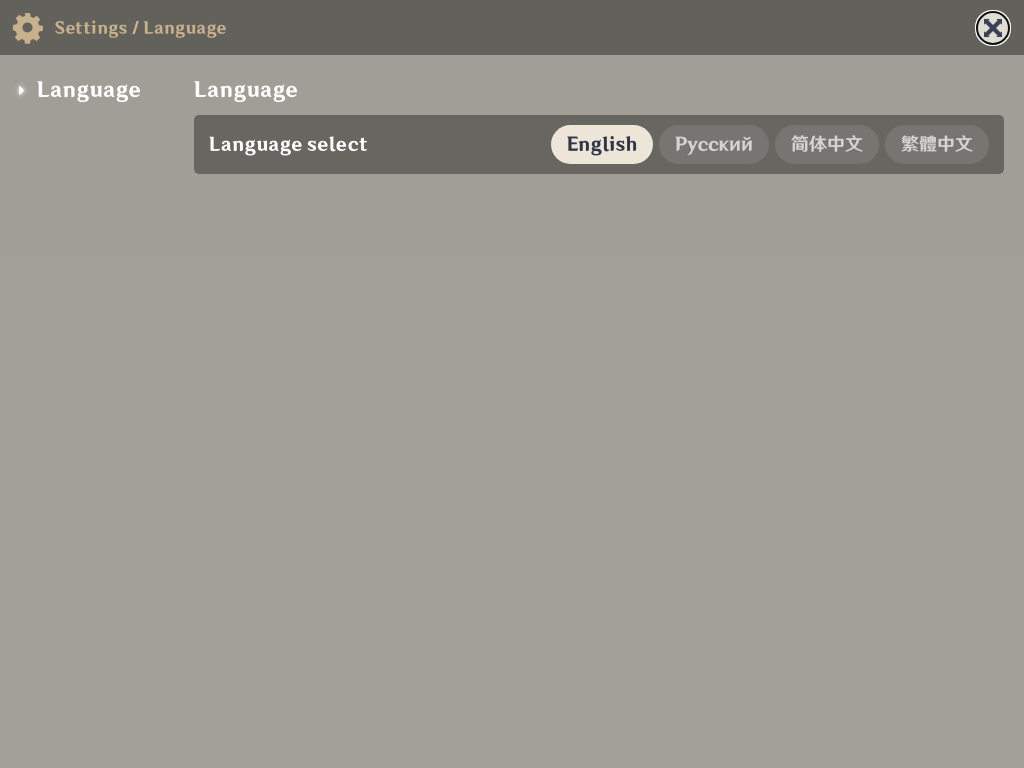
it: switches and remembers the language, dropping ?locale=
Click the button "Русский". click: (714, 144)
box: [659,125,769,164]
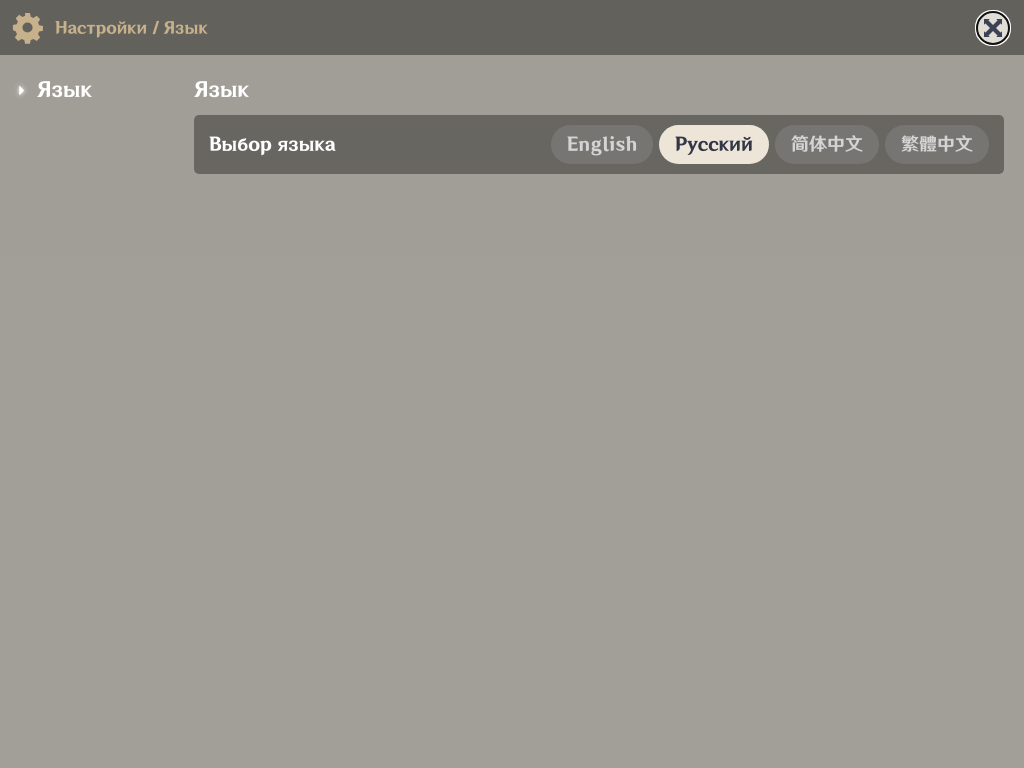
Expected: the heading "Настройки / Язык" is shown, [55,16,208,40]
